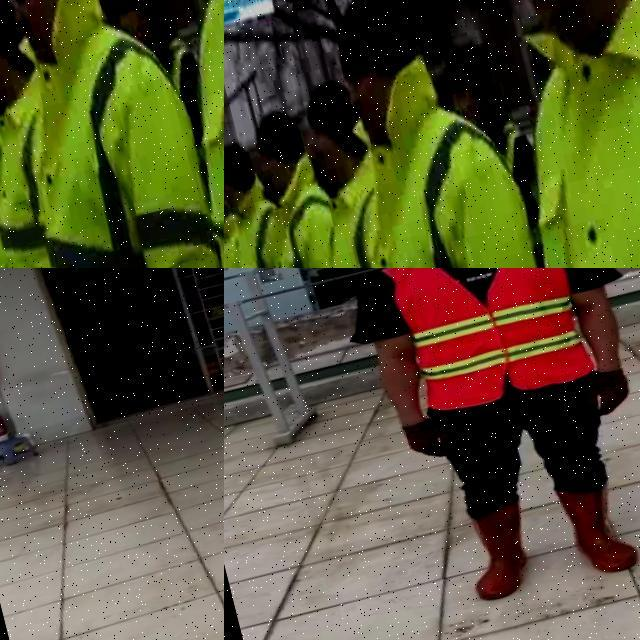boots: (554, 476, 640, 581), (459, 501, 538, 603)
vest: (301, 29, 590, 268), (0, 0, 224, 268), (448, 0, 640, 268), (382, 268, 598, 416), (112, 0, 224, 268), (0, 52, 126, 268), (227, 145, 395, 268), (293, 148, 460, 268), (0, 61, 62, 268), (224, 167, 326, 268)
